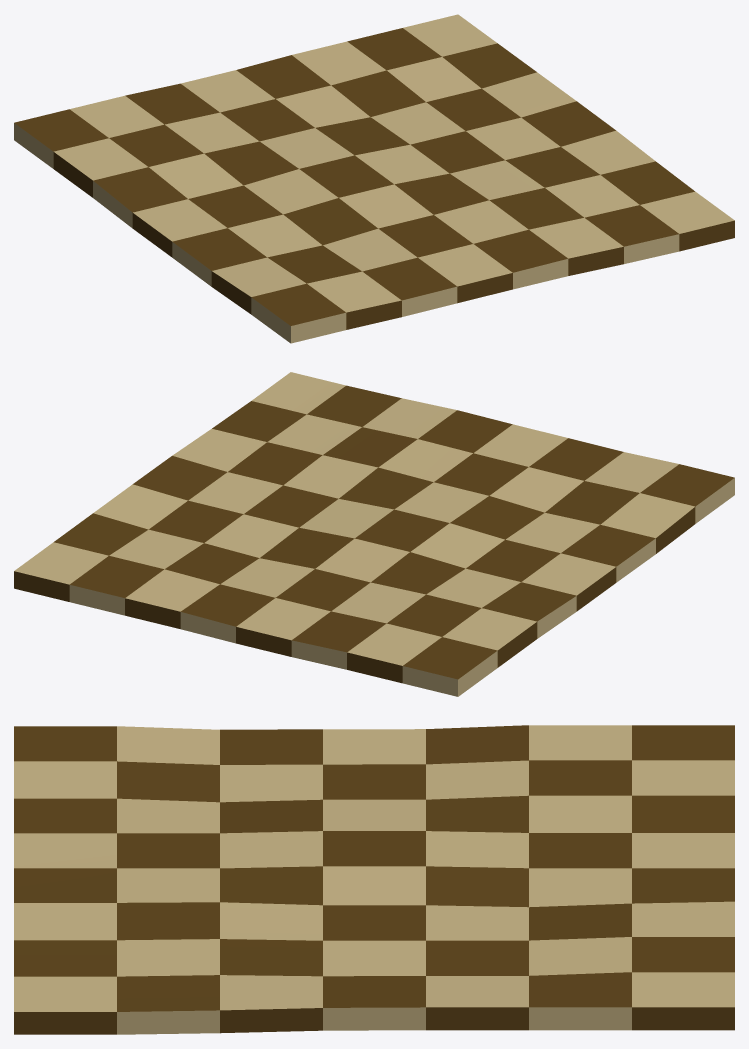
Rendered from Placemat.fbx.
3 views of the same model, one above another, from view 1: azimuth 30°, elevation 25°; view 2: azimuth 150°, elevation 25°; view 3: azimuth 270°, elevation 25° (orthographic). The views are drawn at different scales.
Parts seen in each view (by area): view 1: Placemat; view 2: Placemat; view 3: Placemat.
Boxes of the visible parts, x1,y1,x2,y2 form: Placemat: (14, 14, 734, 343); Placemat: (14, 372, 734, 696); Placemat: (14, 725, 734, 1034).
Size of the model in its own units: 2.8 by 3.02 by 0.1261.
